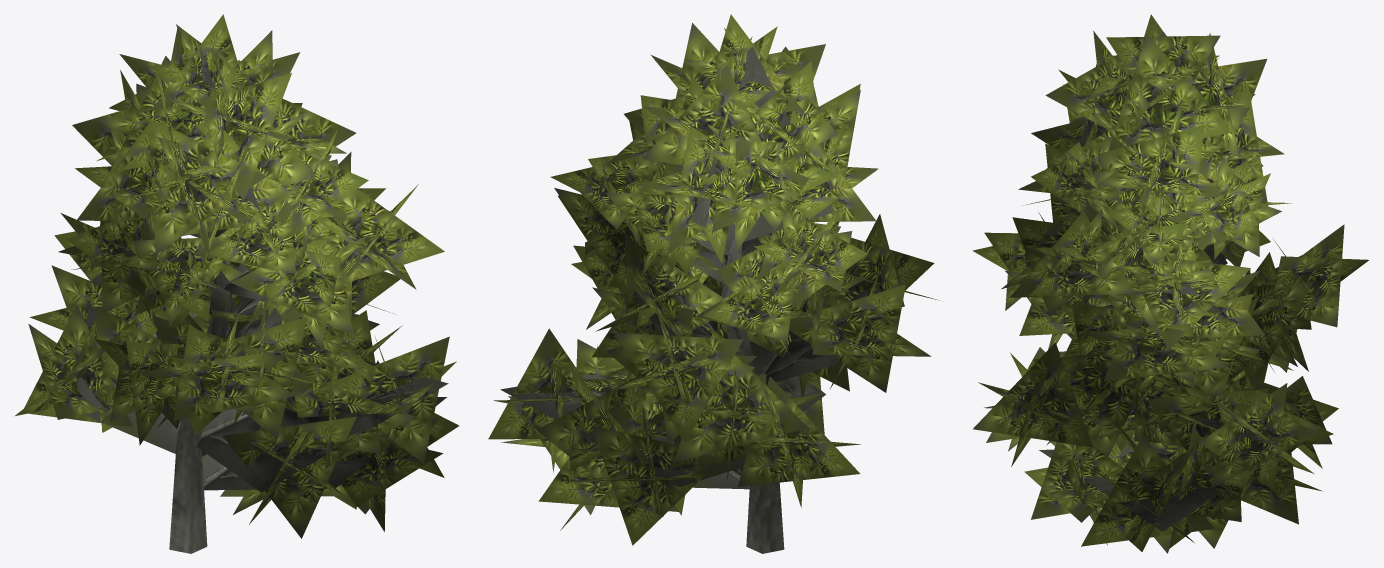
File: BushBig02.FBX
3 views of the same model, side by side, from view 1: azimuth 30°, elevation 25°; view 2: azimuth 150°, elevation 25°; view 3: azimuth 270°, elevation 25° (orthographic). The views are drawn at different scales.
Visible parts, largest first — view 1: Bush_LOD0; view 2: Bush_LOD0; view 3: Bush_LOD0.
Part boxes in pixels (x1,y1,x2,y2): Bush_LOD0: [14, 14, 459, 553]; Bush_LOD0: [488, 14, 939, 553]; Bush_LOD0: [972, 14, 1368, 553].
Size of what is drawn, in the model's own units: 445 by 563 by 412.
